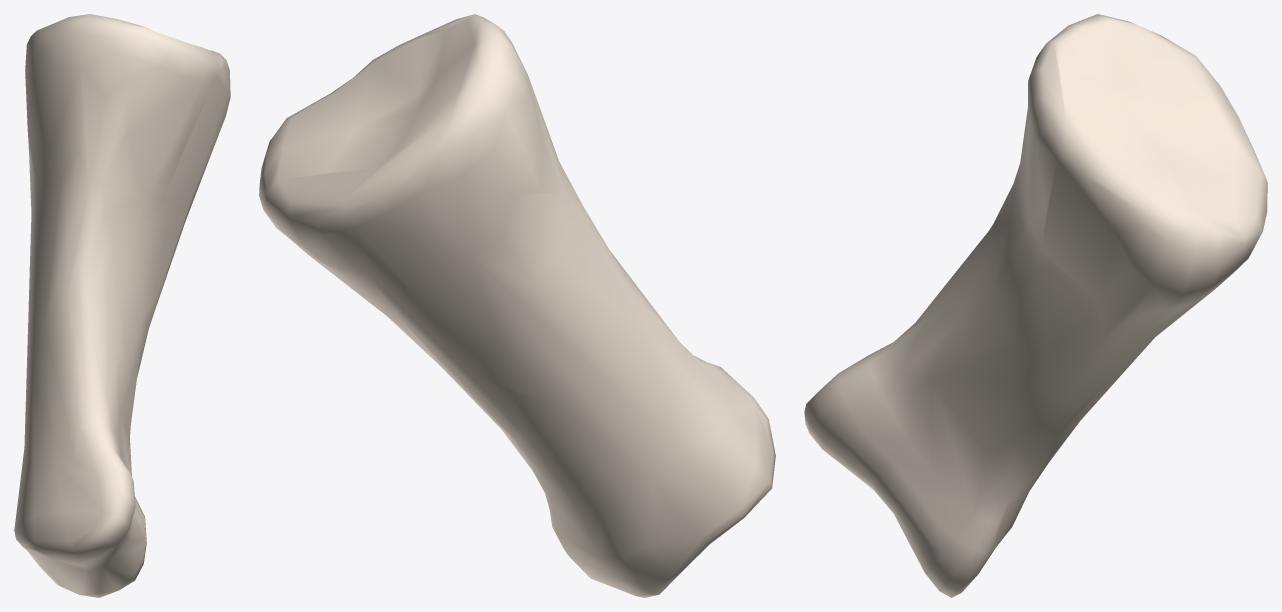
The model's file is right_digit_1_proximal.glb.
The picture shows the model from 3 angles, left to right: view 1: azimuth 30°, elevation 25°; view 2: azimuth 150°, elevation 25°; view 3: azimuth 270°, elevation 25°; orthographic projection. The views are drawn at different scales.
Parts seen in each view (by area): view 1: Proximal phalanx of 1st finger.r; view 2: Proximal phalanx of 1st finger.r; view 3: Proximal phalanx of 1st finger.r.
Boxes of the visible parts, box(x1,y1,x2,y2) form: Proximal phalanx of 1st finger.r: box(14, 14, 230, 597); Proximal phalanx of 1st finger.r: box(259, 14, 775, 597); Proximal phalanx of 1st finger.r: box(804, 14, 1267, 597).
Bounding box in the file's own units: 0.0204 × 0.032 × 0.0224.
